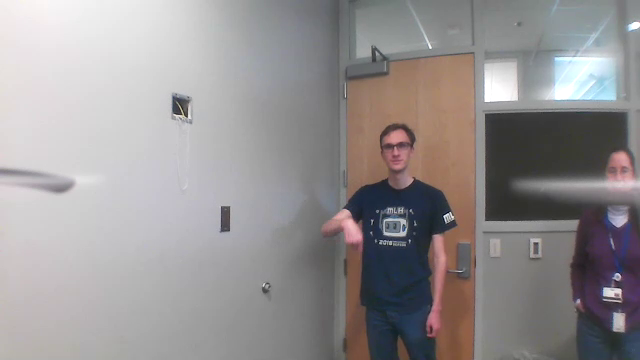down: (336, 205, 365, 265)
